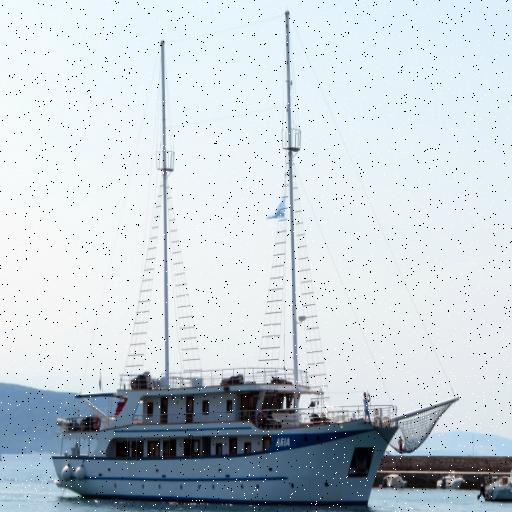cruises: (50, 359, 409, 512)
